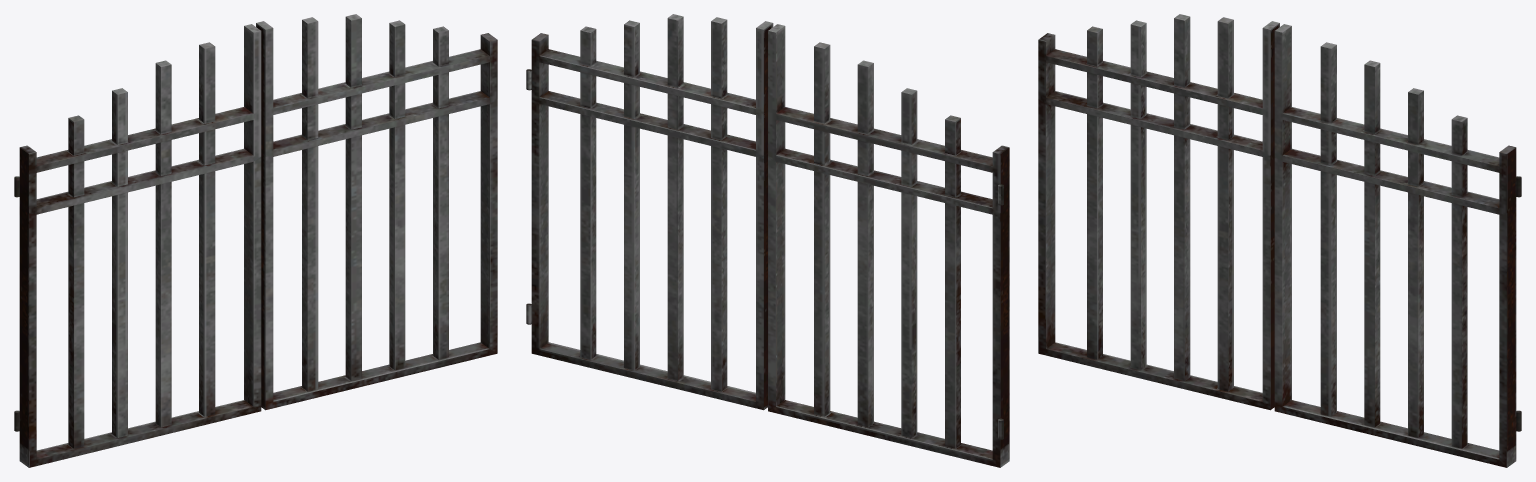
Rendered from Gate.fbx.
The picture shows the model from 3 angles, left to right: view 1: azimuth 30°, elevation 25°; view 2: azimuth 150°, elevation 25°; view 3: azimuth 330°, elevation 25°; orthographic projection.
Visible parts, largest first — view 1: Gate2, Gate1; view 2: Gate2, Gate1; view 3: Gate1, Gate2.
Boxes of the visible parts, x1,y1,x2,y2 form: Gate2: [14, 24, 261, 467]; Gate1: [256, 14, 497, 410]; Gate2: [768, 24, 1009, 467]; Gate1: [526, 14, 773, 410]; Gate1: [1274, 24, 1521, 467]; Gate2: [1038, 14, 1279, 410].
Size of the model in its own units: 2.75 by 2.1 by 0.1155.
